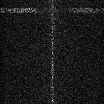wifi: (1, 8, 104, 12)
